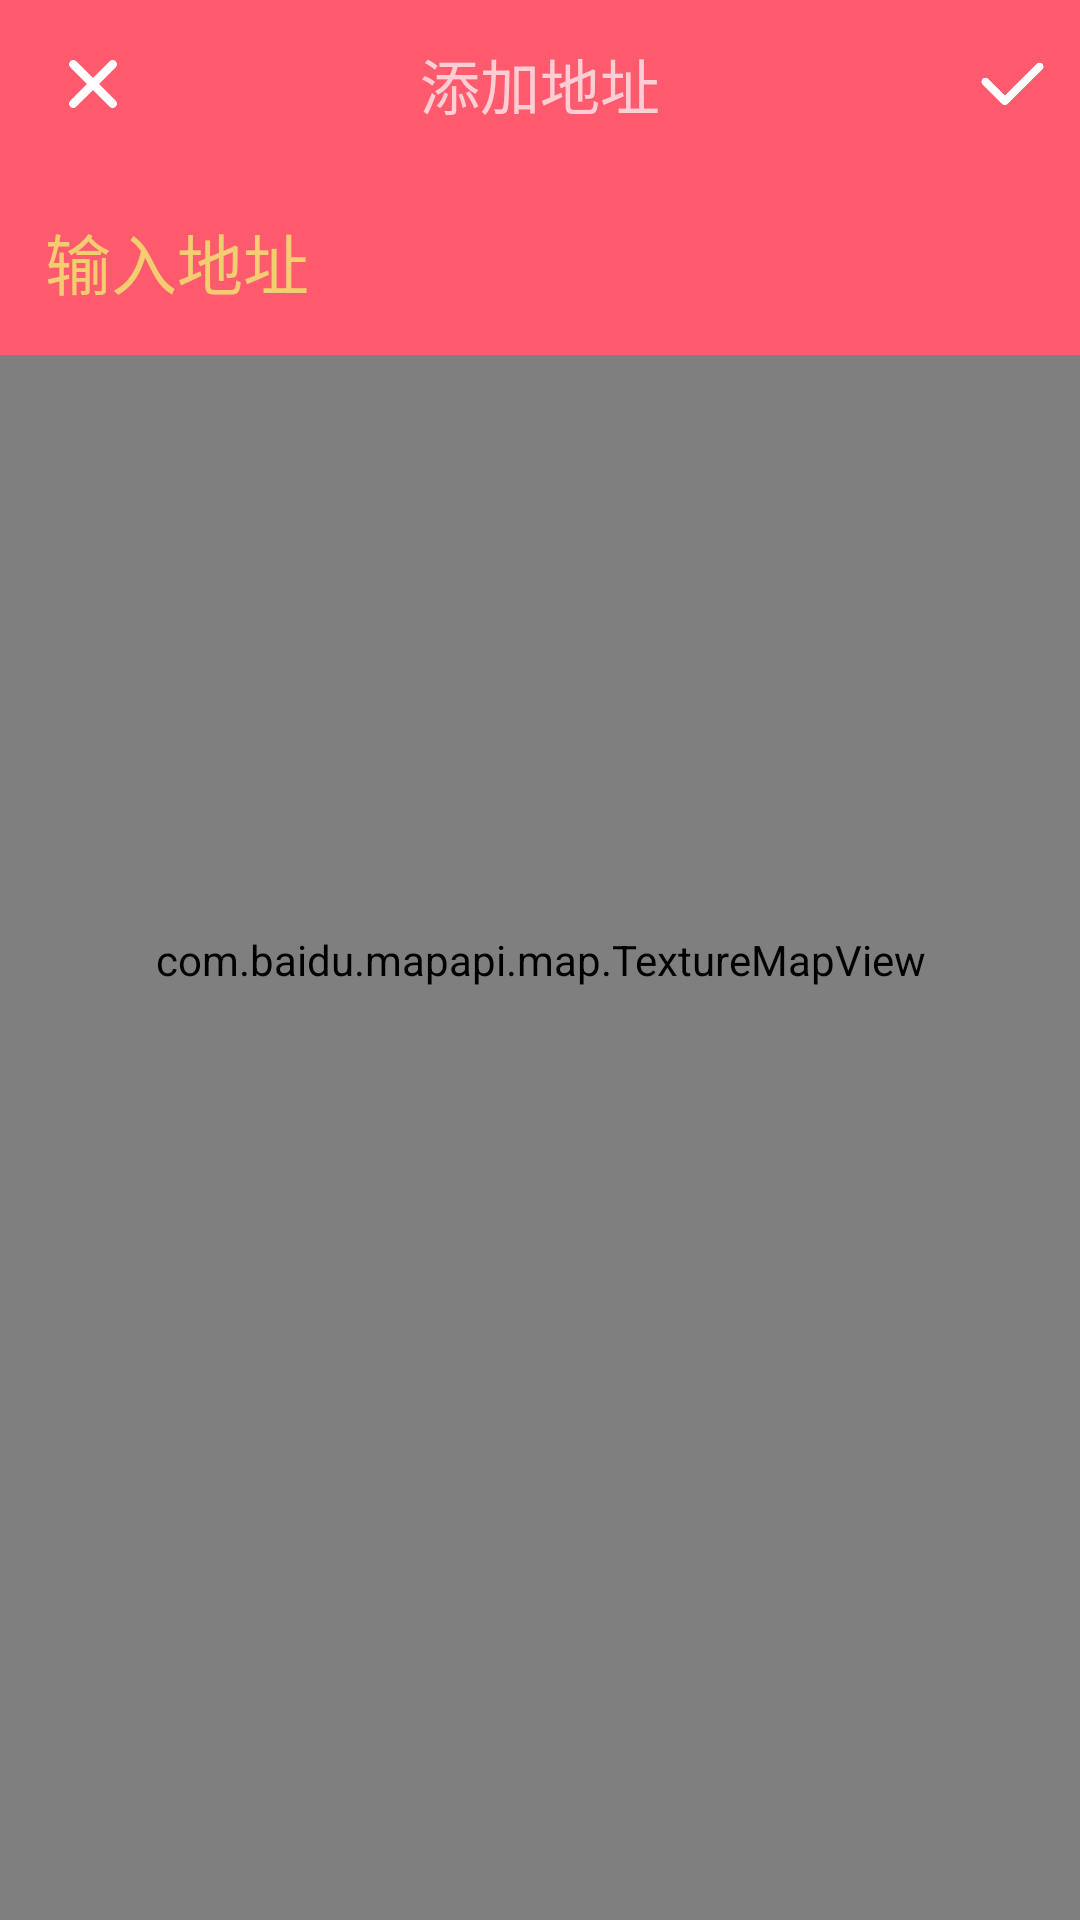

Screen size 1080x1920. Icon name, then its center in pixels as [x,y]:
close: [93,84]
complete: [1012,83]
